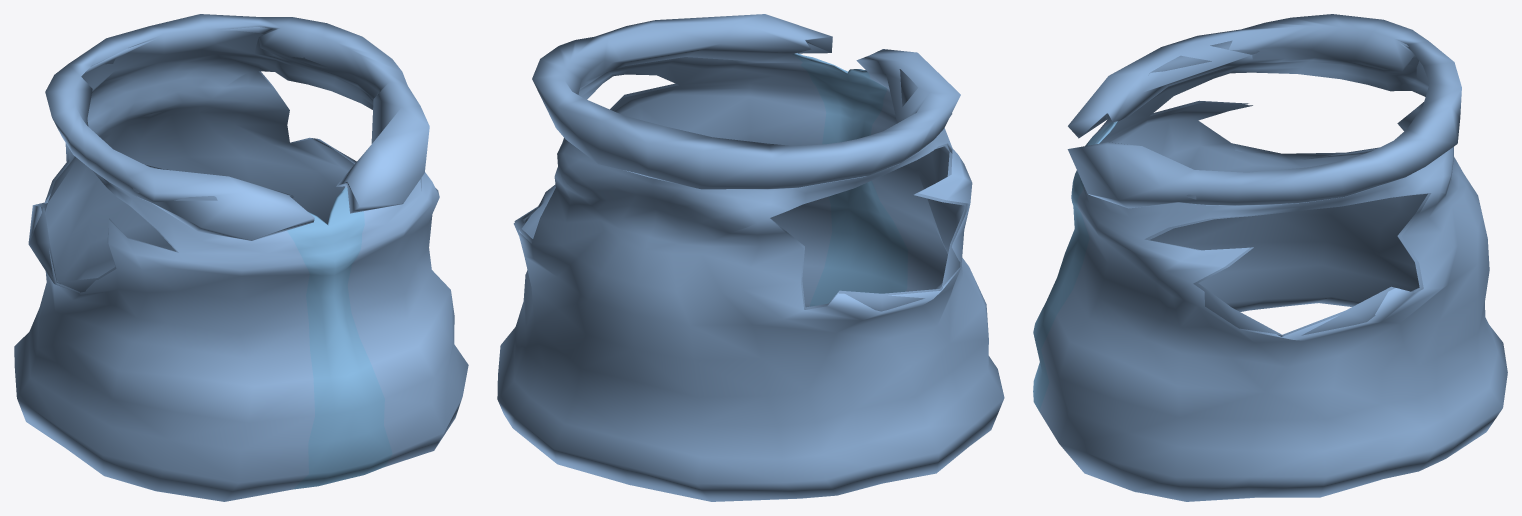
The model's file is ropa_camisa_cuello.glb.
3 views of the same model, side by side, from view 1: azimuth 30°, elevation 25°; view 2: azimuth 150°, elevation 25°; view 3: azimuth 270°, elevation 25° (orthographic). The views are drawn at different scales.
Parts seen in each view (by area): view 1: pieza; view 2: pieza; view 3: pieza.
Boxes of the visible parts, x1=… form: pieza: x1=14, y1=14, x2=468, y2=501; pieza: x1=497, y1=14, x2=1004, y2=501; pieza: x1=1033, y1=14, x2=1507, y2=501.
Size of the model in its own units: 0.9905 by 0.7767 by 0.9904.
